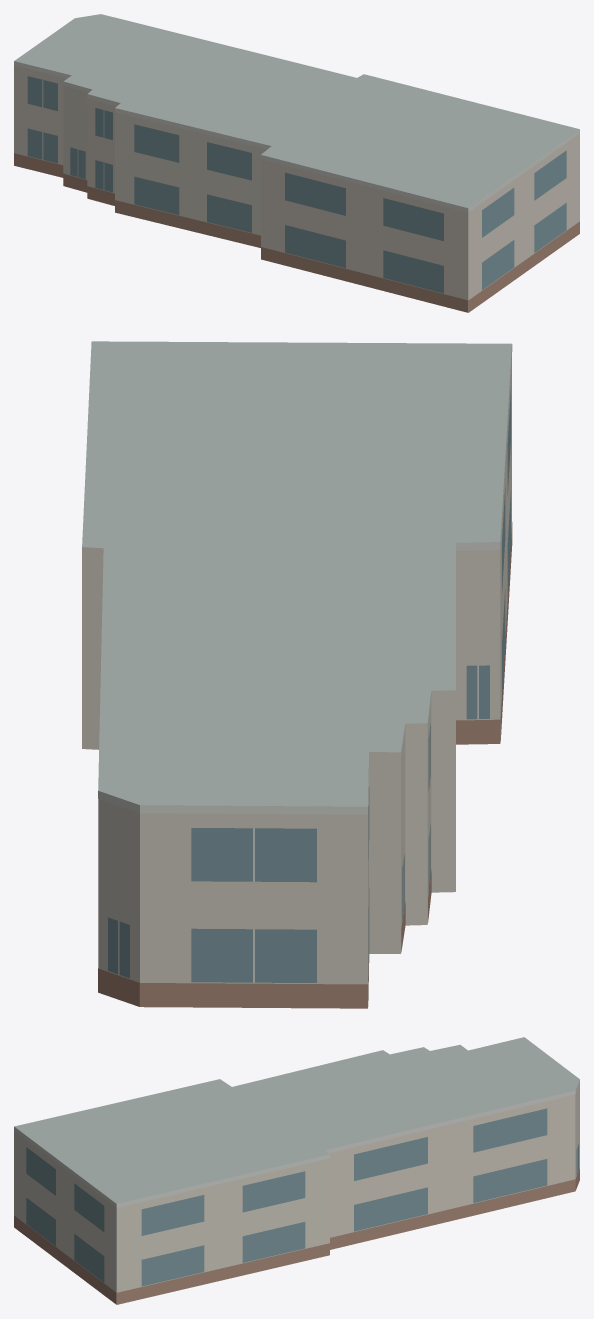
Rendered from survey-upis-32614392.glb.
3 views of the same model, one above another, from view 1: azimuth 30°, elevation 25°; view 2: azimuth 150°, elevation 25°; view 3: azimuth 270°, elevation 25° (orthographic). The views are drawn at different scales.
Visible parts, largest first — view 1: survey-upis-32614392.tmp; view 2: survey-upis-32614392.tmp; view 3: survey-upis-32614392.tmp.
Part boxes in pixels (x1,y1,x2,y2): survey-upis-32614392.tmp: (14,14,579,312); survey-upis-32614392.tmp: (82,341,512,1008); survey-upis-32614392.tmp: (14,1037,579,1304).
Bounding box in the file's own units: 21.65 × 6.1 × 31.
